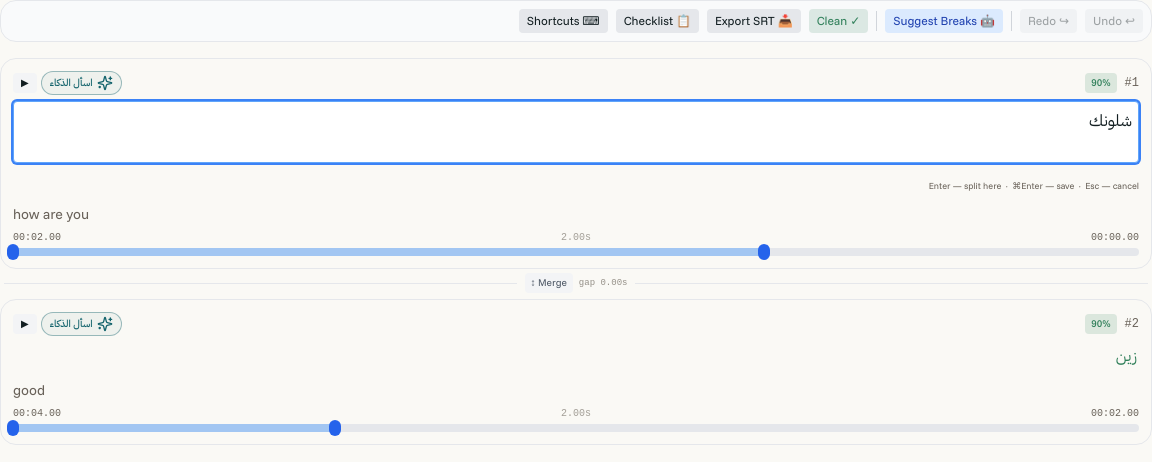
Scenario: keyboard shortcuts › undoes and redoes an edit
This screenshot has width=1152, height=462.
Earlier steps of the test are not shown.
Later steps or results of the test are not shown.
Step 1. Replace the text in the text box with "شلونكم" → {"x": 576, "y": 132}, box [13, 101, 1139, 163]
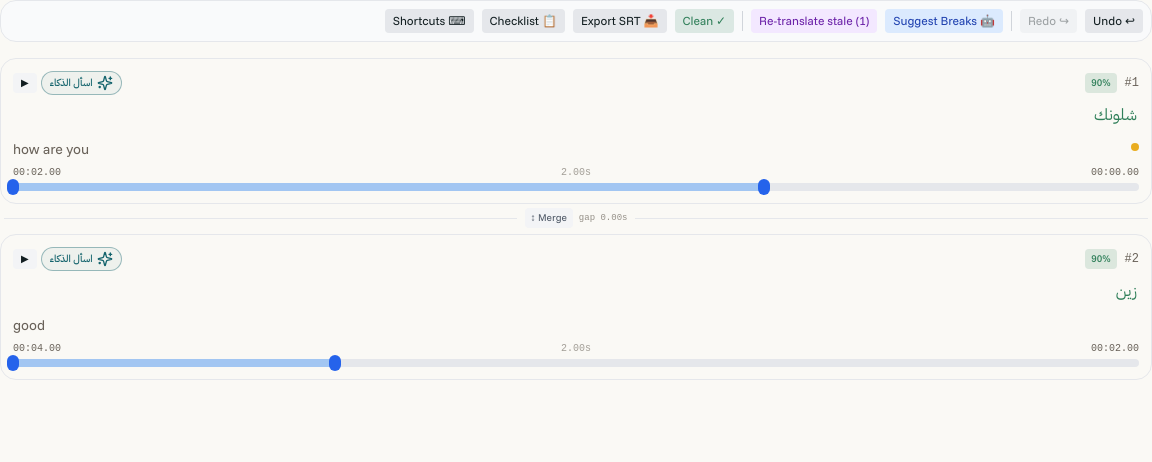
Step 2. Click the button "شلونك" → {"x": 1116, "y": 114}, box [1092, 104, 1139, 124]
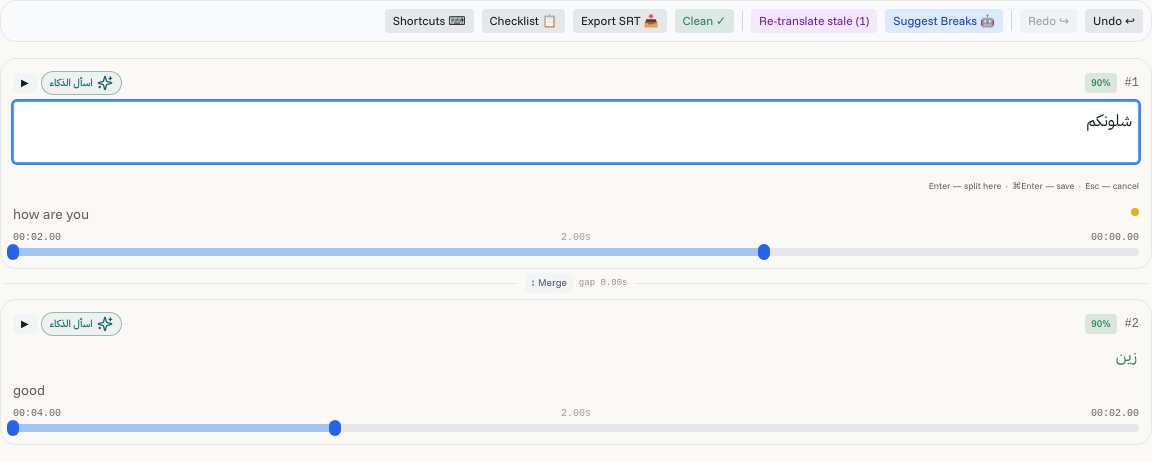
Step 3. Press Escape in the text box, box [13, 101, 1139, 163]
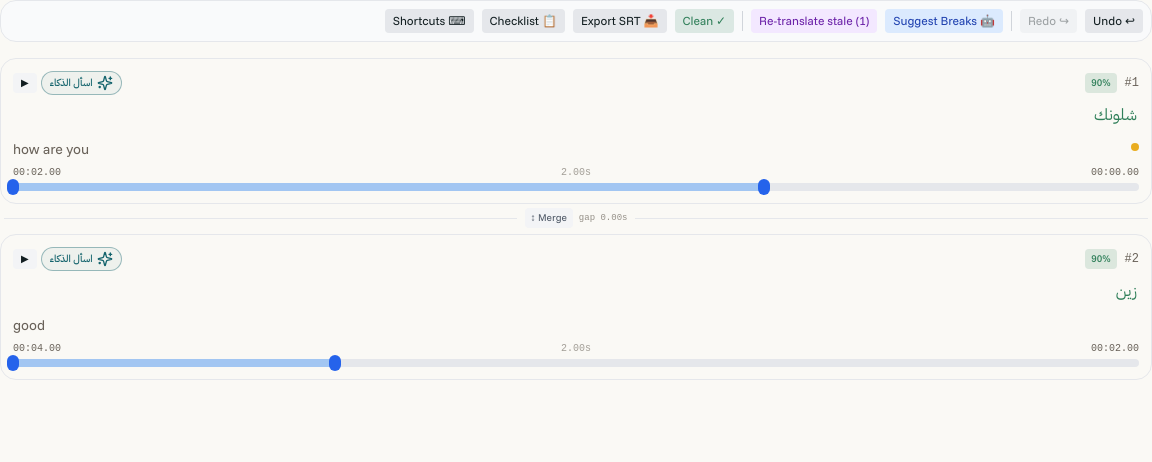
Step 4. Press z
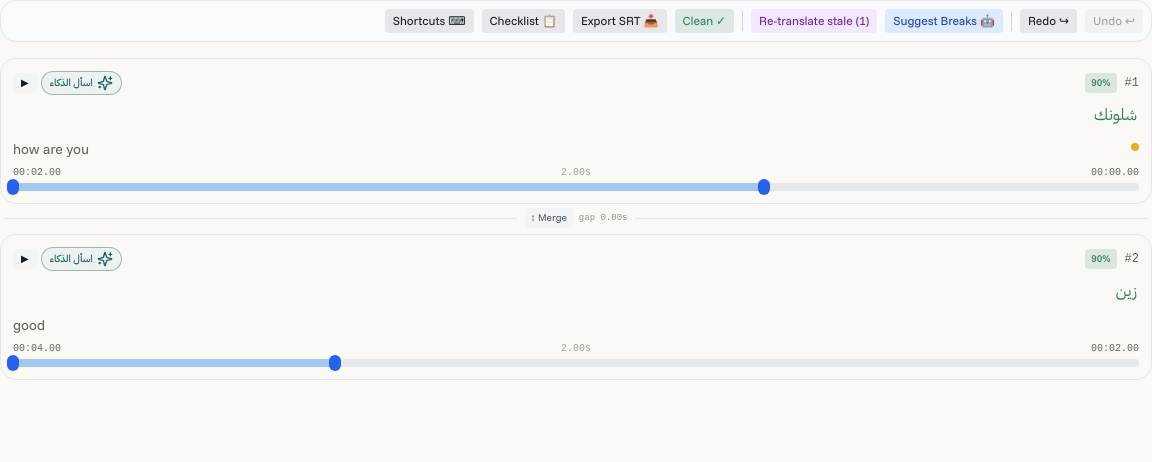
Step 5. Click the button "شلونك" → {"x": 1116, "y": 114}, box [1092, 104, 1139, 124]
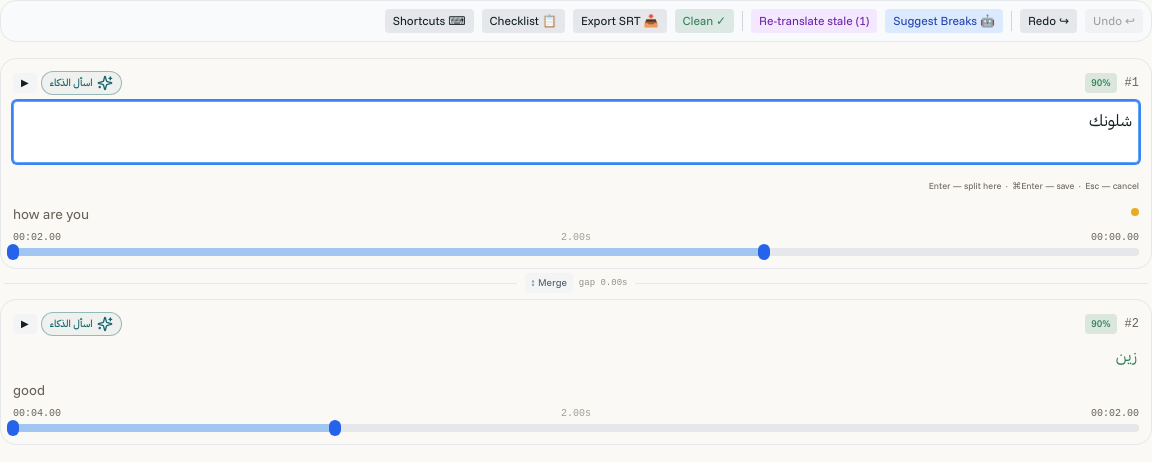
Step 6. Press Escape in the text box, box [13, 101, 1139, 163]
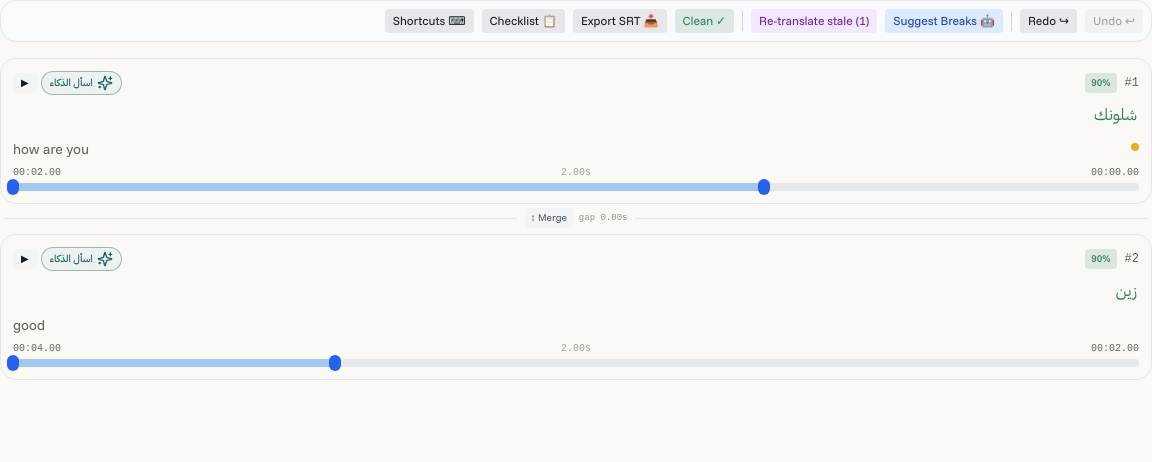
Now the button "شلونك" is shown, box [1092, 104, 1139, 124]
